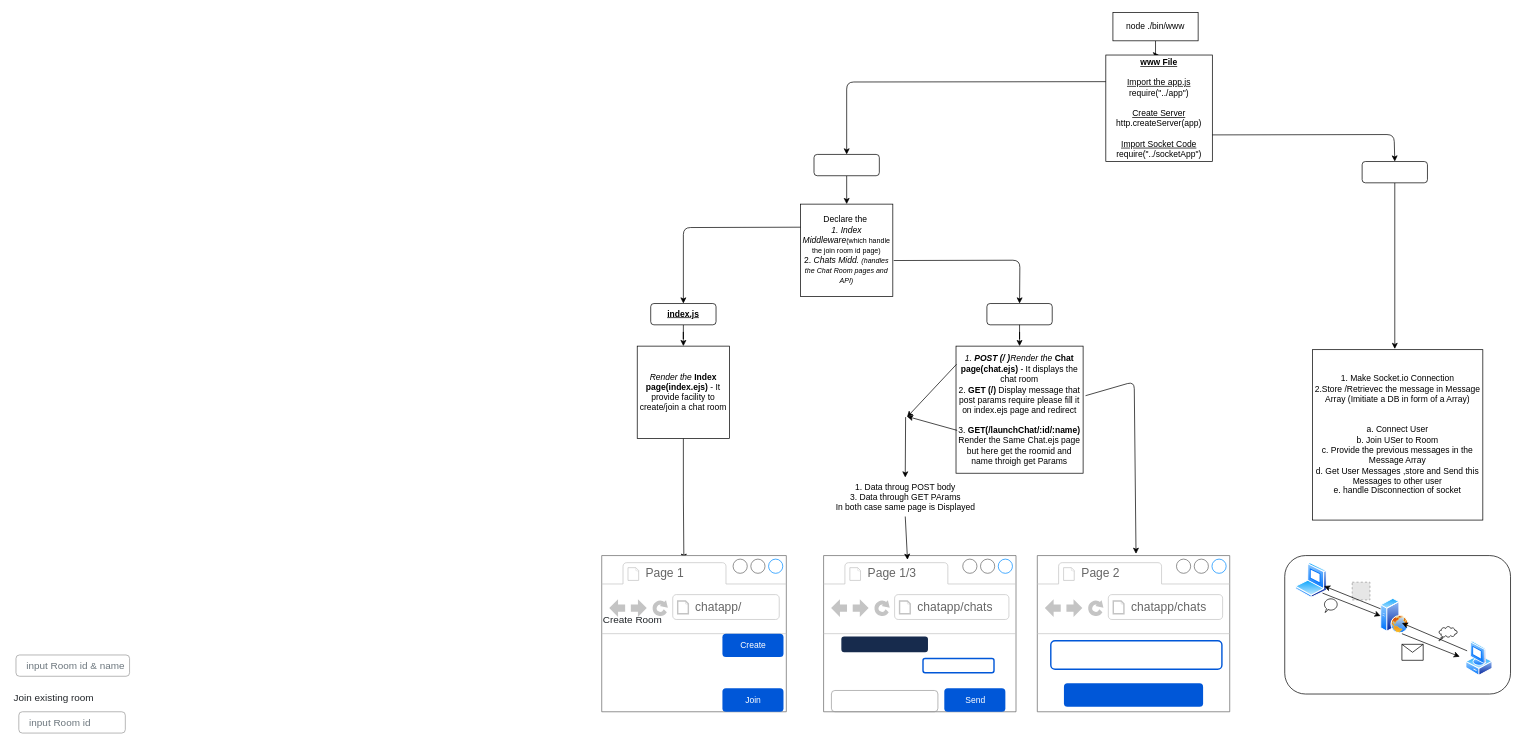
Image size: 1523x746. Some labels were removed from this diagram. Grey dashed boxes stand in for pictures. The centre of each missing label's shape, as x and y in pixels:
"app.js" belongs at point (846, 165).
"chats.js" belongs at point (1019, 314).
"Join Chat Again with RoomID" belongs at point (1133, 694).
"Please do join chat with the RoomId" belongs at point (1136, 655).
"SocketApp.js" belongs at point (1394, 172).
"Type Message" belongs at point (884, 701).
"User Message" belongs at point (884, 644).
"Your Message" belongs at point (958, 665).
